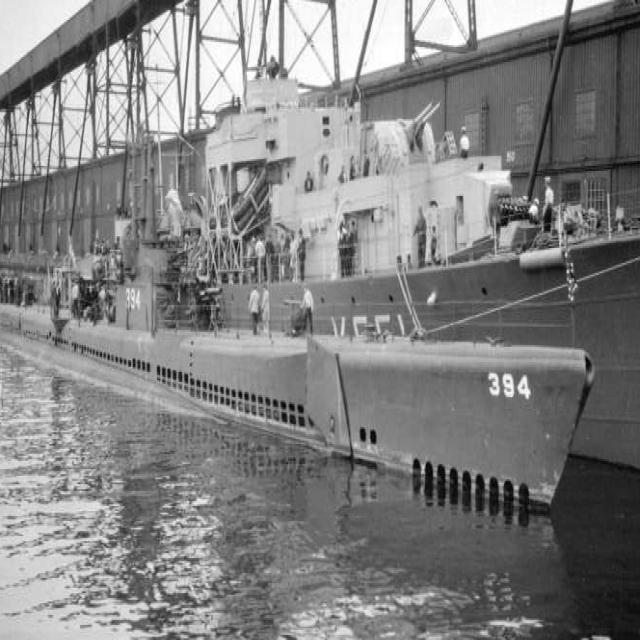submarine: (1, 247, 596, 524)
